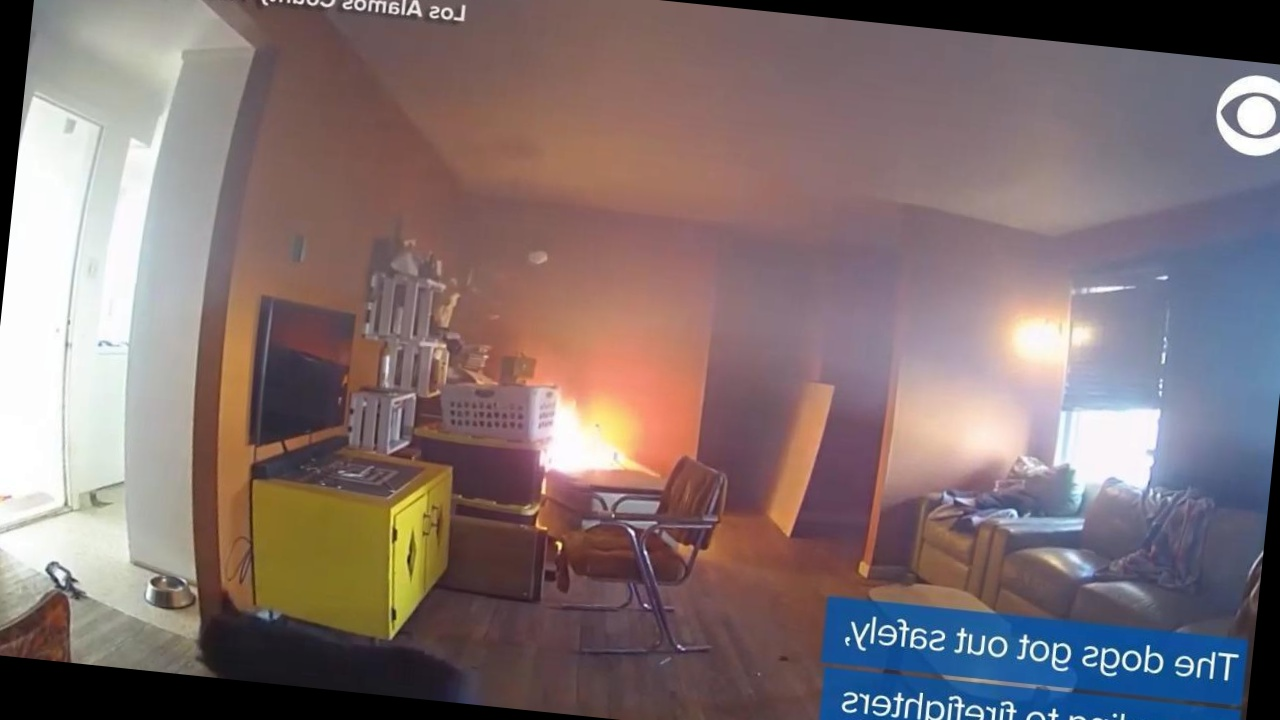fire: (523, 374, 673, 497)
